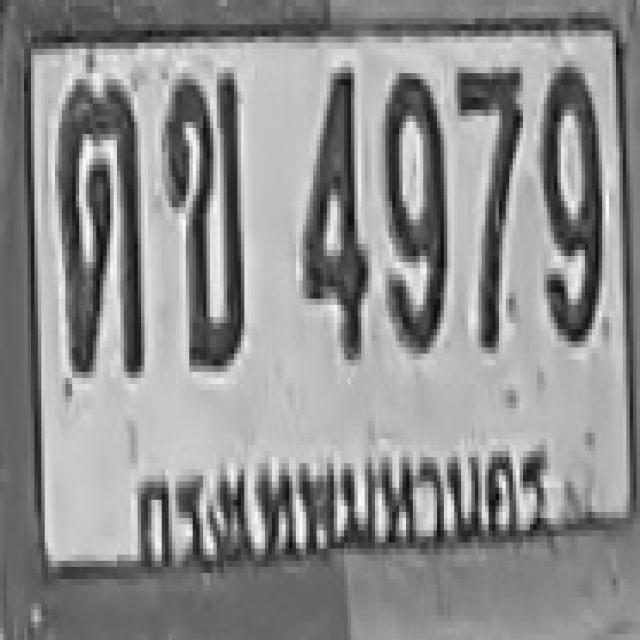11KhorKhai: (164, 73, 242, 366)
30TorTao: (59, 76, 141, 375)
4: (300, 64, 368, 357)
7: (454, 64, 523, 350)
9: (382, 67, 447, 354), (540, 61, 602, 341)
Bangkok: (130, 415, 562, 579)
